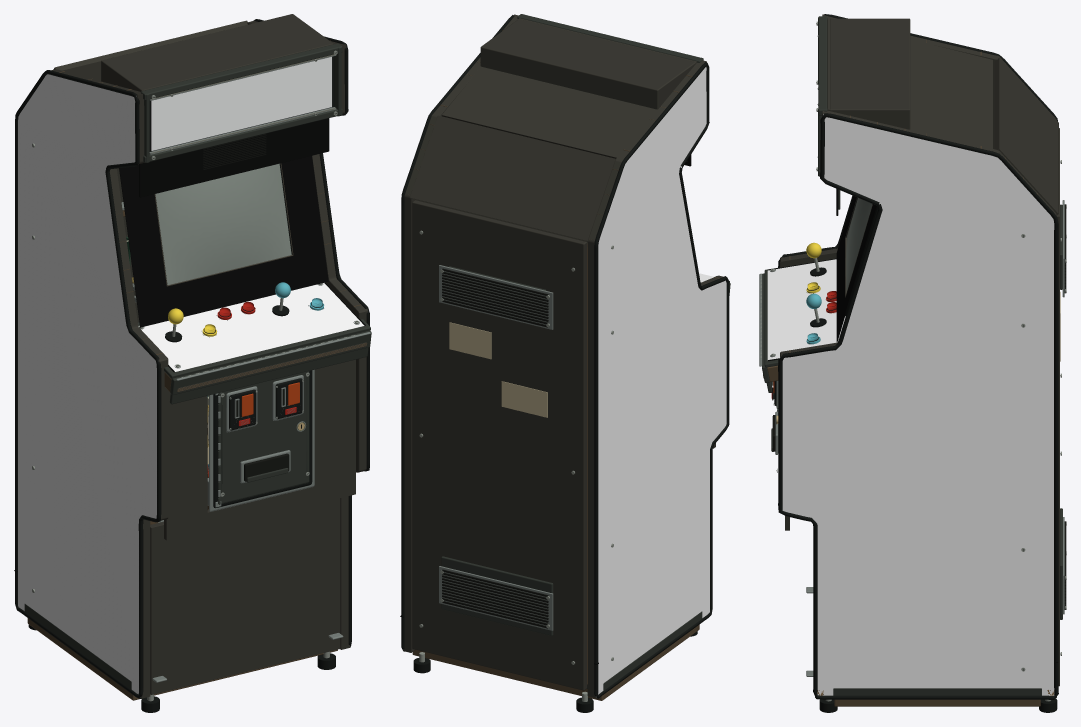
Rendered from joust-cabinet.glb.
3 views of the same model, side by side, from view 1: azimuth 30°, elevation 25°; view 2: azimuth 150°, elevation 25°; view 3: azimuth 270°, elevation 25° (orthographic). The views are drawn at different scales.
Visible parts, largest first — view 1: left_panel_print, chassis, marquee_mount, monitor_bezel, coin_fascia, coin_hinge, crt_screen, left_panel, marquee_print, control_print, controls_hinge, speaker_cover (+3 smaller); view 2: rear_service, left_panel_print, back_panel, chassis, marquee_mount, left_panel, rear_vents, right_panel, inspection_label, back_label; view 3: right_panel_print, chassis, marquee_mount, right_panel, back_panel, control_print, left_panel, controls_hinge, monitor_bezel, rear_service, crt_screen, rear_vents (+1 smaller).
Part boxes in pixels (box(x1,y1,x2,y2)): left_panel_print: box(18, 74, 156, 697); chassis: box(24, 44, 343, 712); marquee_mount: box(101, 14, 342, 162); monitor_bezel: box(119, 156, 328, 327); coin_fascia: box(164, 359, 355, 540); coin_hinge: box(209, 369, 314, 511); crt_screen: box(155, 163, 291, 284); left_panel: box(14, 69, 168, 698); marquee_print: box(151, 57, 331, 150); control_print: box(138, 283, 364, 371); controls_hinge: box(138, 282, 371, 404); speaker_cover: box(139, 118, 329, 197); rear_service: box(412, 200, 587, 690); left_panel_print: box(598, 67, 726, 694); back_panel: box(410, 115, 615, 242); chassis: box(412, 18, 702, 712); marquee_mount: box(480, 14, 703, 109); left_panel: box(587, 60, 729, 698); rear_vents: box(439, 265, 553, 630); right_panel: box(400, 14, 518, 652); inspection_label: box(501, 381, 547, 417); back_label: box(449, 322, 491, 359); right_panel_print: box(782, 114, 1054, 695); chassis: box(806, 18, 1057, 712); marquee_mount: box(816, 16, 910, 176); right_panel: box(778, 111, 1058, 699); back_panel: box(994, 58, 1058, 214); control_print: box(767, 259, 845, 359); left_panel: box(778, 14, 1057, 267); controls_hinge: box(759, 258, 836, 392); monitor_bezel: box(836, 196, 877, 342); rear_service: box(1057, 128, 1062, 686); crt_screen: box(846, 198, 872, 291); rear_vents: box(1062, 200, 1066, 614).
Bounding box in the file's own units: 1.22 × 3.4 × 1.56.
